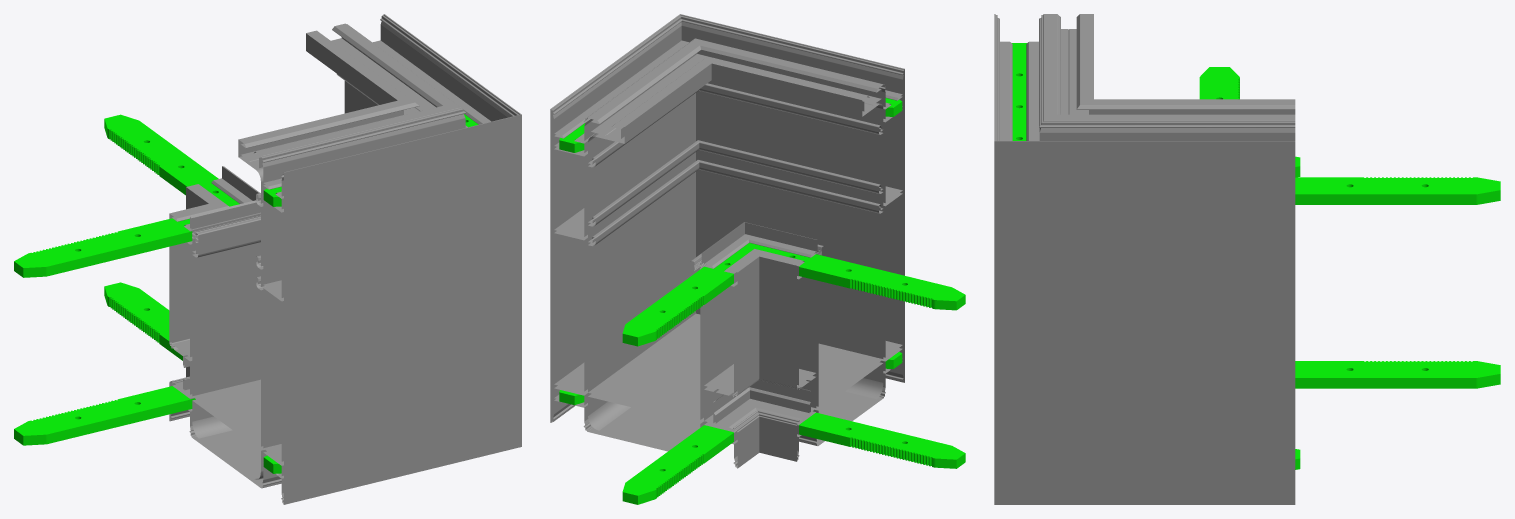
The model's file is rightCorner.glb.
3 renders of one model, left to right at view 1: azimuth 30°, elevation 25°; view 2: azimuth 150°, elevation 25°; view 3: azimuth 270°, elevation 25°, orthographic. The views are drawn at different scales.
Visible parts, largest first — view 1: 3DGeom-6, 3DGeom-8 (×2); view 2: 3DGeom-6, 3DGeom-8 (×4); view 3: 3DGeom-6, 3DGeom-8 (×3).
Part boxes in pixels (x1=…): 3DGeom-6: x1=169, y1=14, x2=521, y2=504; 3DGeom-8 (×2): x1=14, y1=114, x2=239, y2=445; 3DGeom-6: x1=550, y1=14, x2=904, y2=468; 3DGeom-8 (×4): x1=559, y1=98, x2=965, y2=504; 3DGeom-6: x1=994, y1=14, x2=1295, y2=504; 3DGeom-8 (×3): x1=1012, y1=43, x2=1500, y2=388.
Size of the model in its own units: 0.2562 by 0.2032 by 0.2562.
